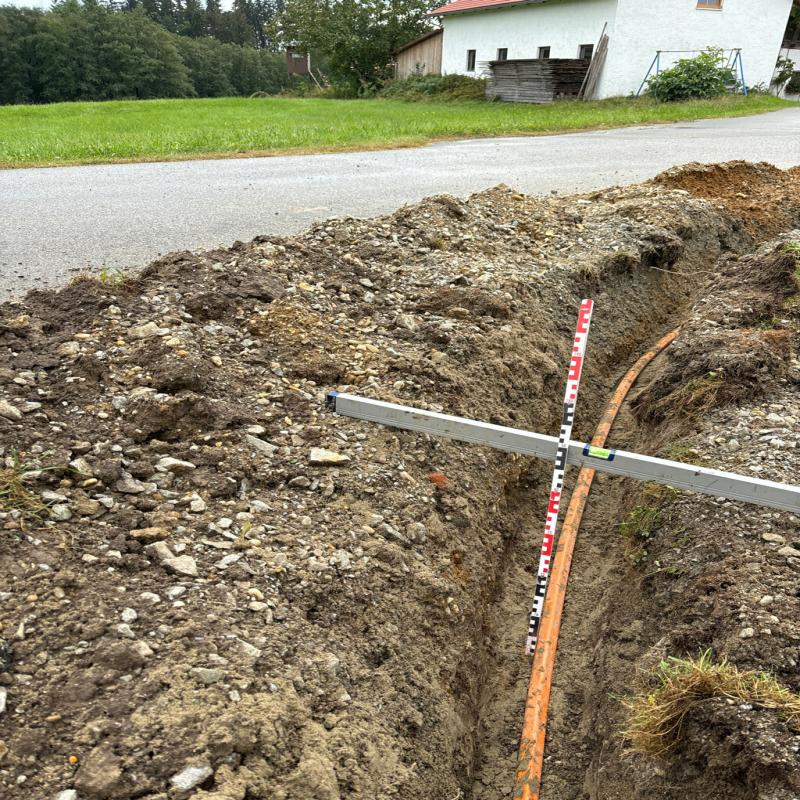Orang-Speednetrohrchen: (513, 361, 644, 800)
